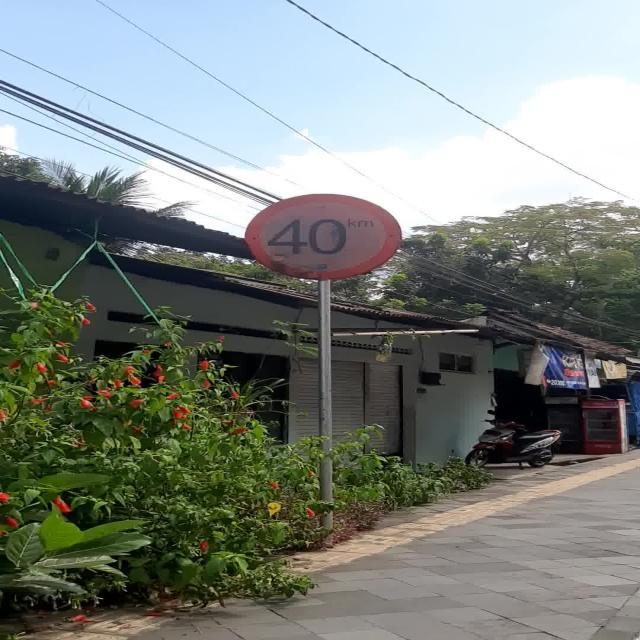Kecepatan Maks. 40 km: (244, 193, 401, 280)
